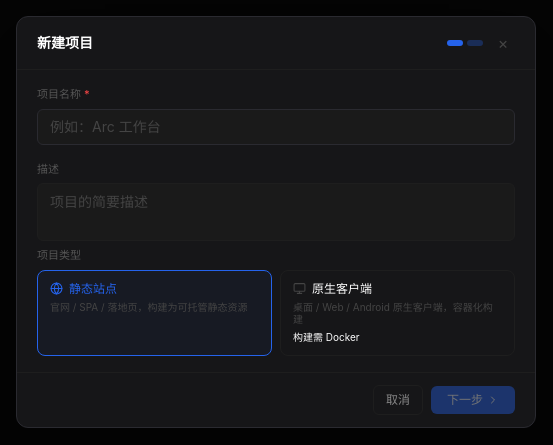
Test: CreateProjectModal › navigates to step 2 on next click
Type "测试项目" into the field with placeholder "例如：Arc 工作台" at (276, 127), box [37,109,515,145]
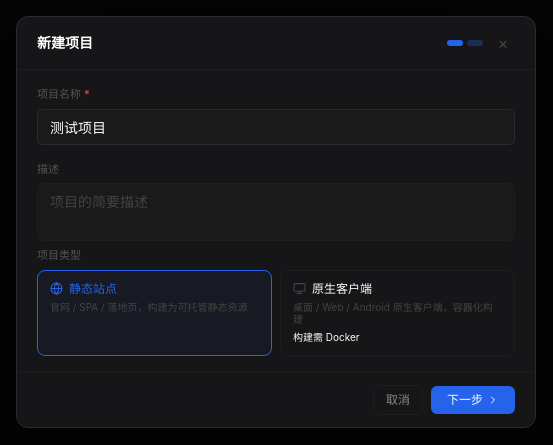
Click the button "下一步" at (473, 400), box [431,386,515,414]
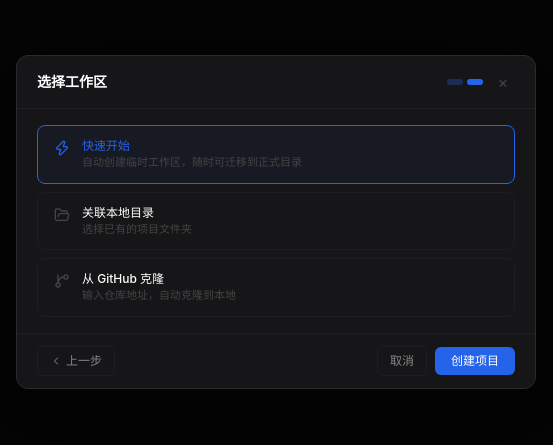
Expected: the heading "选择工作区" is shown, [37,72,107,92]
Expected: the text "快速开始" is shown, [82,138,130,153]
